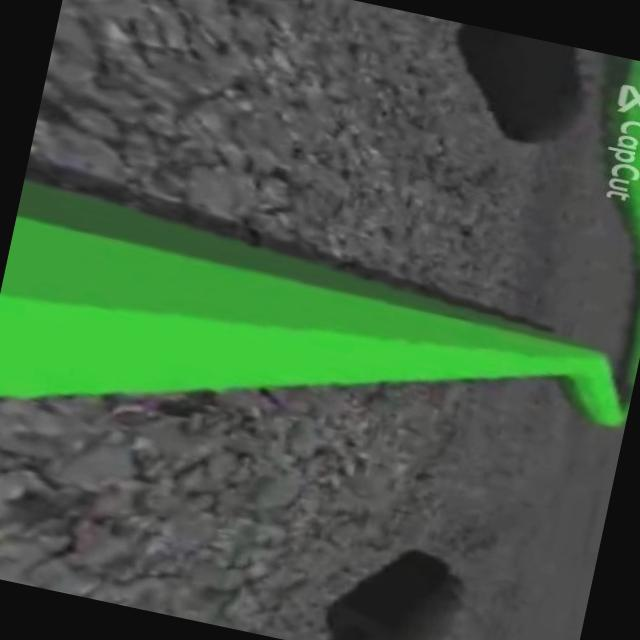gas: (0, 173, 581, 520)
